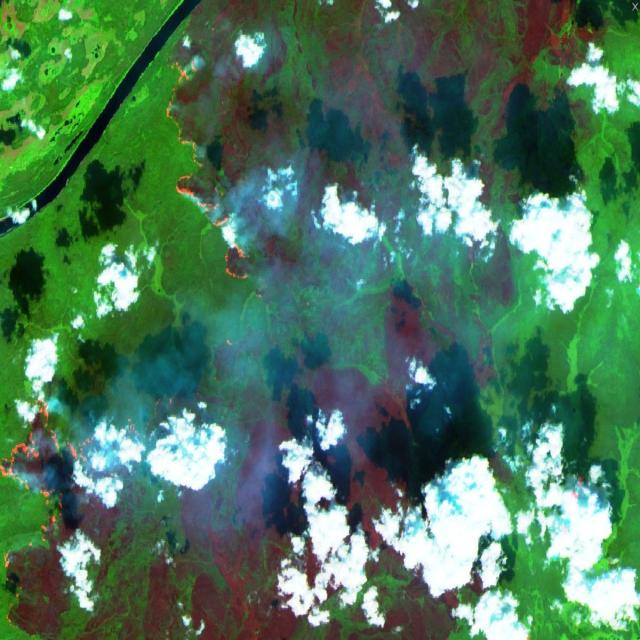fire: (0, 393, 148, 640), (164, 43, 280, 307)
